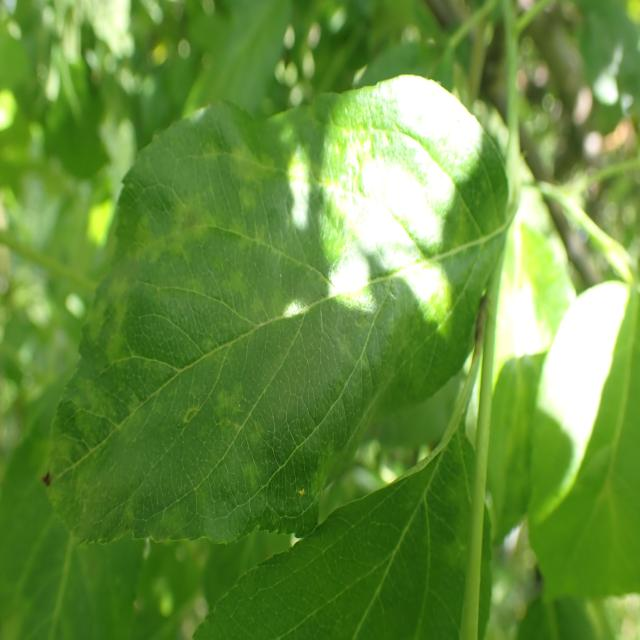scab: (50, 143, 352, 535)
